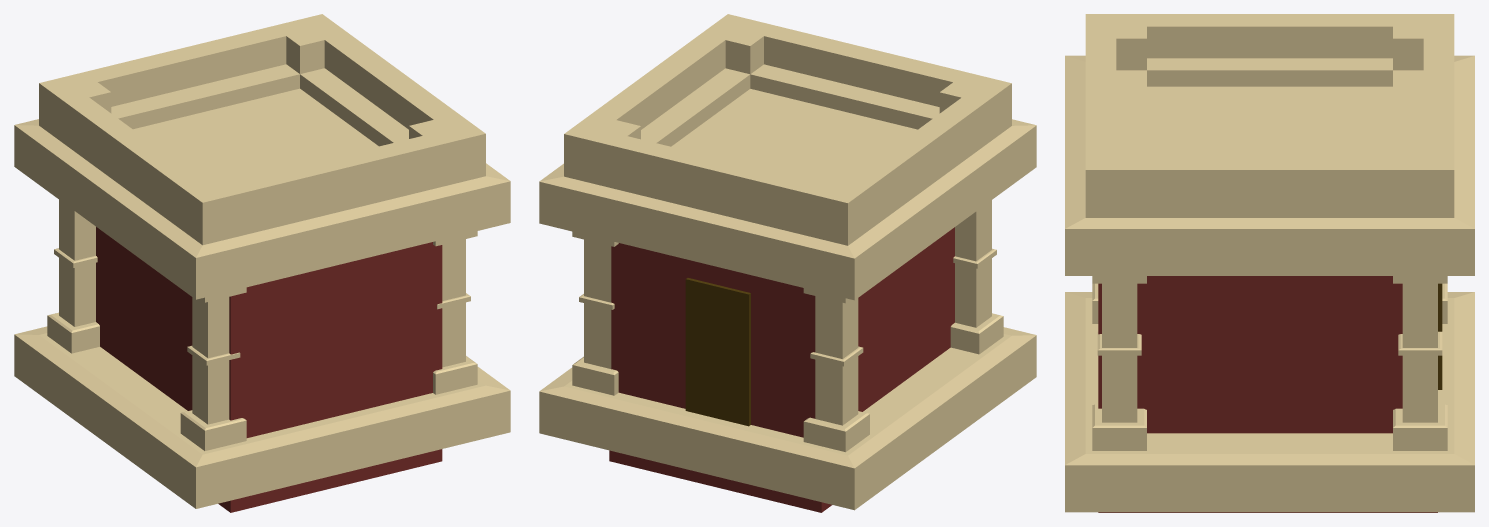
File: houseFlastV1.fbx
The picture shows the model from 3 angles, left to right: view 1: azimuth 30°, elevation 25°; view 2: azimuth 150°, elevation 25°; view 3: azimuth 270°, elevation 25°; orthographic projection. The views are drawn at different scales.
Parts seen in each view (by area): view 1: Cube.006; view 2: Cube.006; view 3: Cube.006.
Boxes of the visible parts, x1,y1,x2,y2 form: Cube.006: [14, 14, 510, 512]; Cube.006: [539, 14, 1036, 512]; Cube.006: [1065, 14, 1474, 512].
Size of the model in its own units: 1500 by 1469 by 1500.
